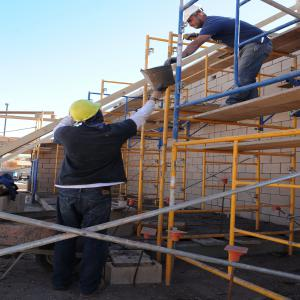white: (182, 6, 205, 29)
yellow: (70, 100, 105, 126)
